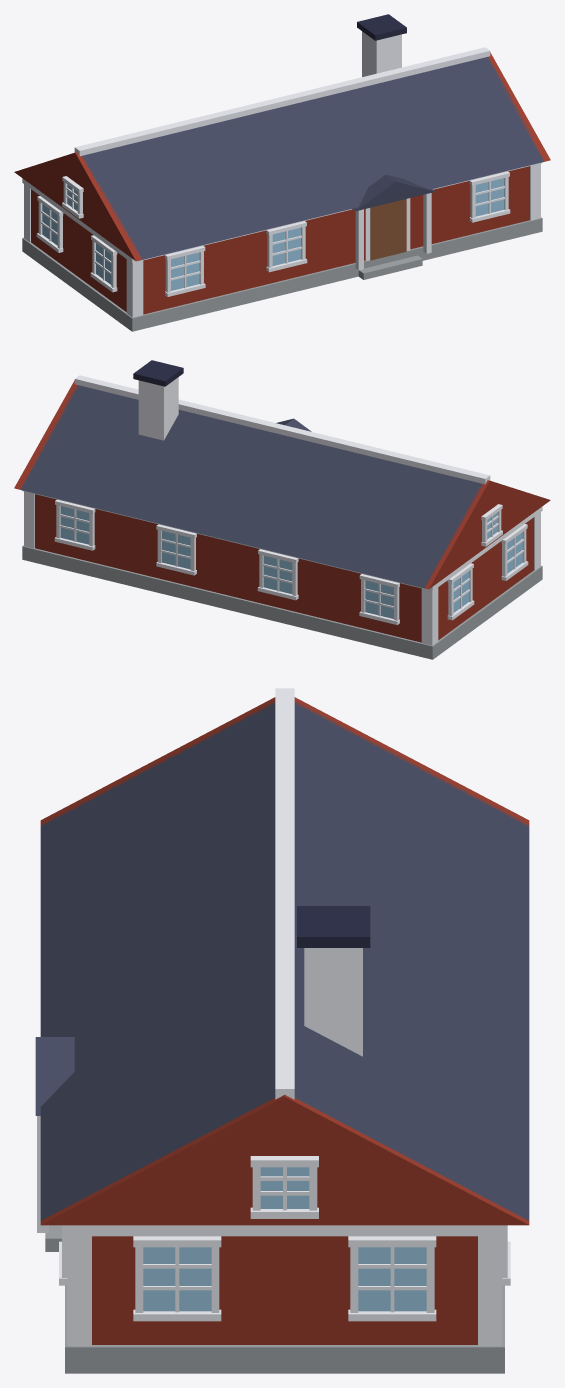
File: house-2x1-1f-stuga-a.glb
The picture shows the model from 3 angles, top to bottom: view 1: azimuth 30°, elevation 25°; view 2: azimuth 150°, elevation 25°; view 3: azimuth 270°, elevation 25°; orthographic projection. The views are drawn at different scales.
Parts seen in each view (by area): view 1: house-2x1-1f-stuga-a; view 2: house-2x1-1f-stuga-a; view 3: house-2x1-1f-stuga-a.
Part boxes in pixels (x1,y1,x2,y2): house-2x1-1f-stuga-a: (14, 14, 550, 331); house-2x1-1f-stuga-a: (14, 360, 550, 659); house-2x1-1f-stuga-a: (35, 688, 529, 1373).
Size of the model in its own units: 2 by 0.815 by 1.01.
1 material, 1 textured.
